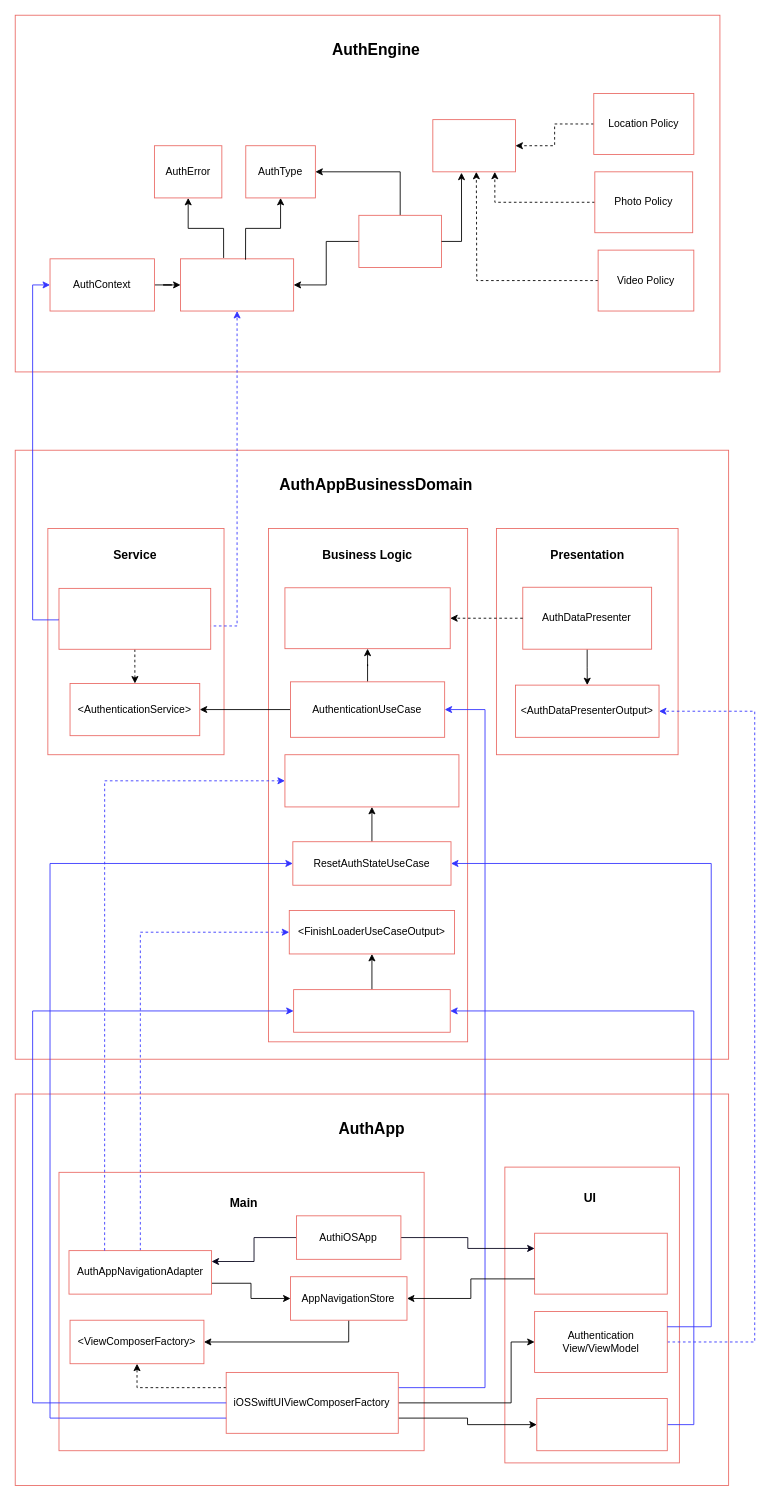
Some shapes in this 777 by 1501 pixel diagram are drawn without their labels. The centre of each missing label's shape, as x and y in pixels:
"<AuthDelegate>" goes at [237,284].
"<AuthenticationUseCaseOutput>" goes at [367,618].
"<AuthPolicy>" goes at [473,145].
"<ResetAuthStateUseCaseOutput>" goes at [371,780].
"AuthFlow" goes at [400,241].
"FinishLoaderUseCase" goes at [371,1010].
"Loader View/ViewModel" goes at [601,1424].
"Navigation View" goes at [600,1263].
"RemoteAuthenticationService" goes at [134,618].
